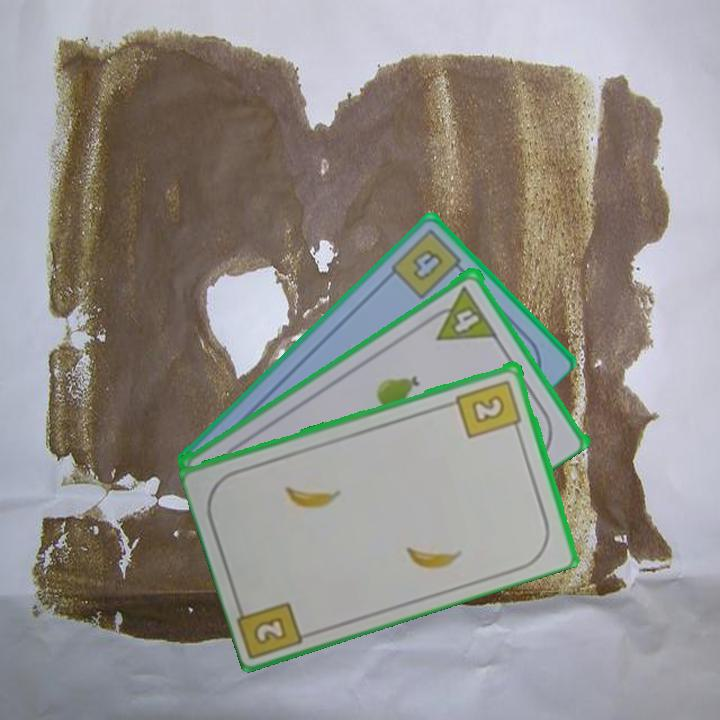2b: (453, 376, 525, 441), (250, 613, 290, 648)
4b: (387, 225, 469, 302)
4p: (436, 301, 496, 344)
